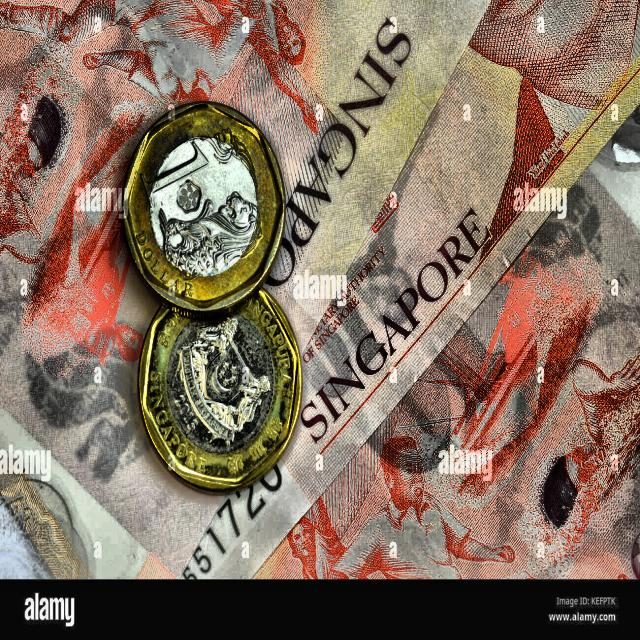coin: (124, 103, 285, 311), (139, 289, 302, 491)
